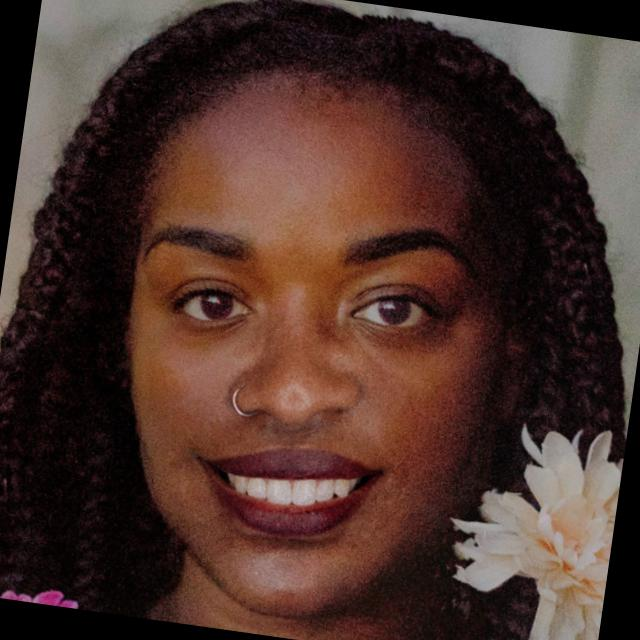face: (71, 21, 601, 640)
